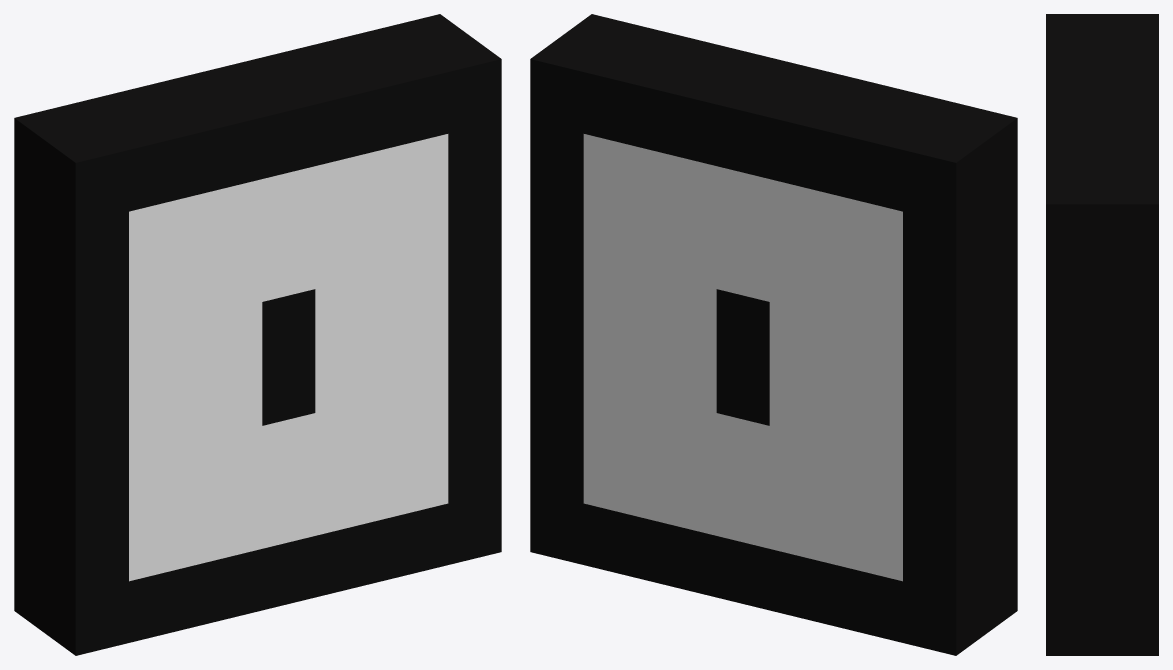
Rendered from Font_Number_0_01.fbx.
3 views of the same model, side by side, from view 1: azimuth 30°, elevation 25°; view 2: azimuth 150°, elevation 25°; view 3: azimuth 270°, elevation 25° (orthographic). The views are drawn at different scales.
Parts seen in each view (by area): view 1: Font_Number_0_01; view 2: Font_Number_0_01; view 3: Font_Number_0_01.
Boxes of the visible parts, <box> form: Font_Number_0_01: <box>14,14,501,655</box>; Font_Number_0_01: <box>530,14,1017,655</box>; Font_Number_0_01: <box>1046,14,1158,655</box>.
Bounding box in the file's own units: 77.66 × 85.9 × 19.44.
